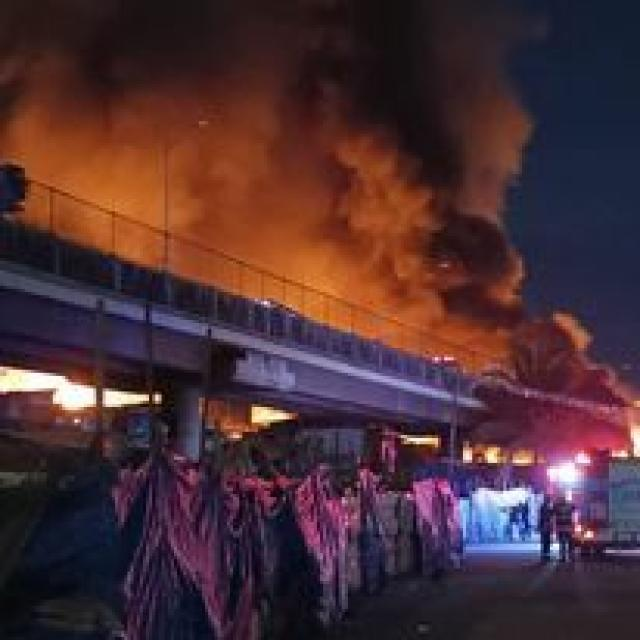Smoke: (7, 0, 531, 158), (242, 165, 528, 298)
